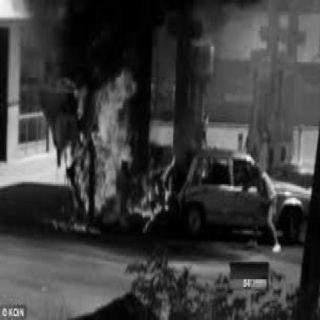Fire: (55, 67, 181, 240)
Smoke: (50, 0, 222, 70)
